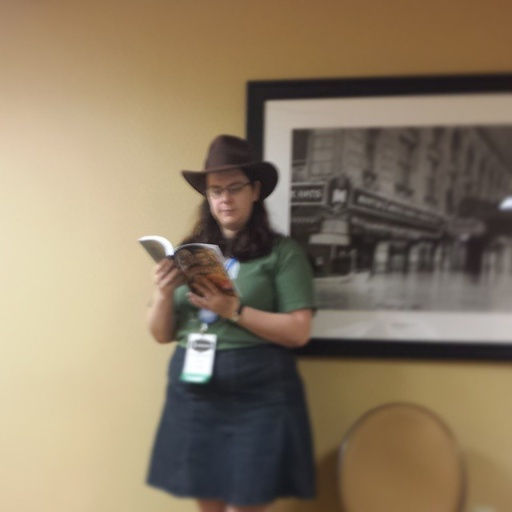hand: (147, 262, 179, 355), (185, 273, 238, 320)
